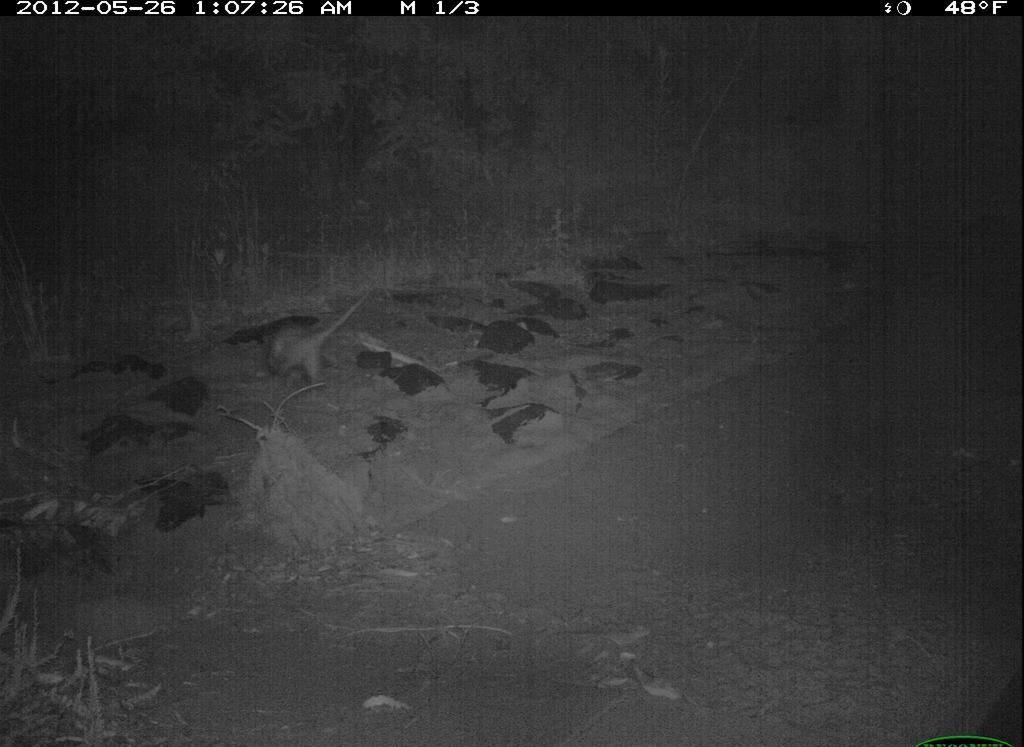opossum: (245, 285, 405, 397)
